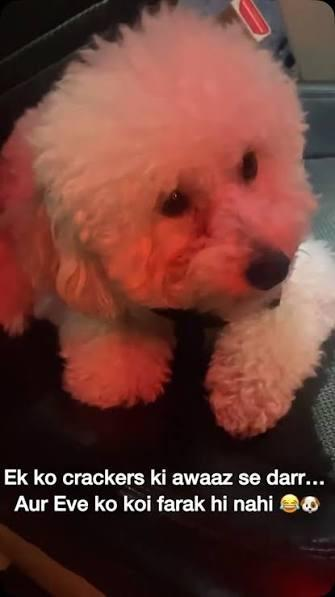adult_dog: (0, 3, 335, 438)
